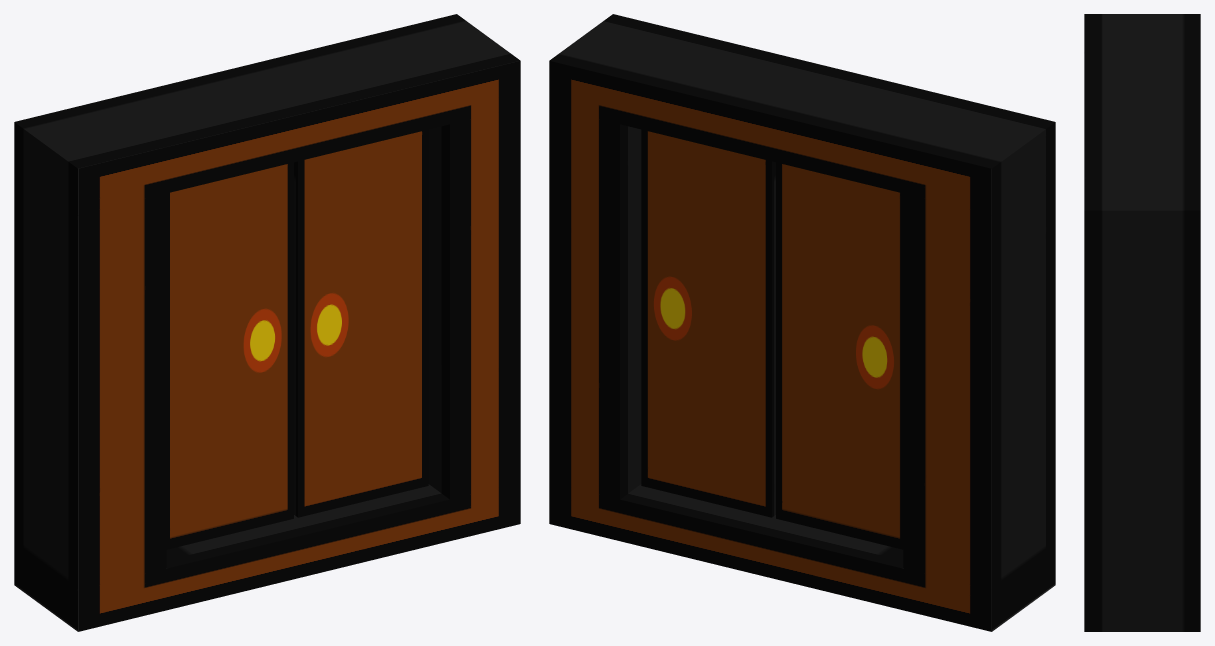
The model's file is Door.fbx.
3 views of the same model, side by side, from view 1: azimuth 30°, elevation 25°; view 2: azimuth 150°, elevation 25°; view 3: azimuth 270°, elevation 25° (orthographic). The views are drawn at different scales.
Visible parts, largest first — view 1: pDoor_Frame, pDoor_Right, pDoor_Left; view 2: pDoor_Frame, pDoor_Right, pDoor_Left; view 3: pDoor_Frame.
Boxes of the visible parts, left/top/right/bottom form: pDoor_Frame: left=14, top=14, right=520, bottom=631; pDoor_Right: left=294, top=129, right=428, bottom=517; pDoor_Left: left=166, top=162, right=293, bottom=549; pDoor_Frame: left=549, top=14, right=1055, bottom=631; pDoor_Right: left=641, top=129, right=775, bottom=517; pDoor_Left: left=776, top=162, right=903, bottom=549; pDoor_Frame: left=1084, top=14, right=1200, bottom=631.
Size of the model in its own units: 2 by 2 by 0.5.
